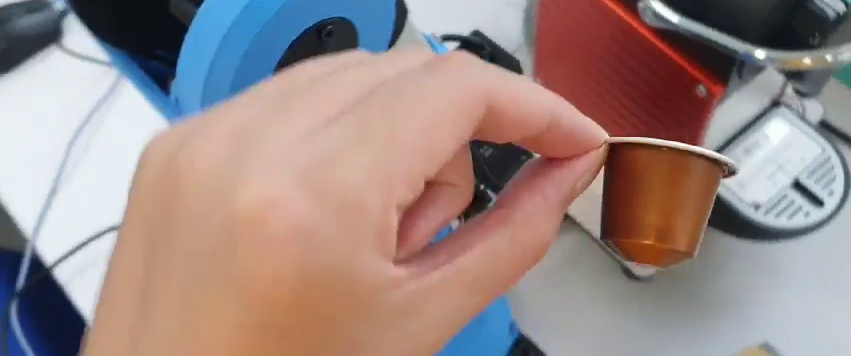capsule_3: (593, 129, 738, 268)
